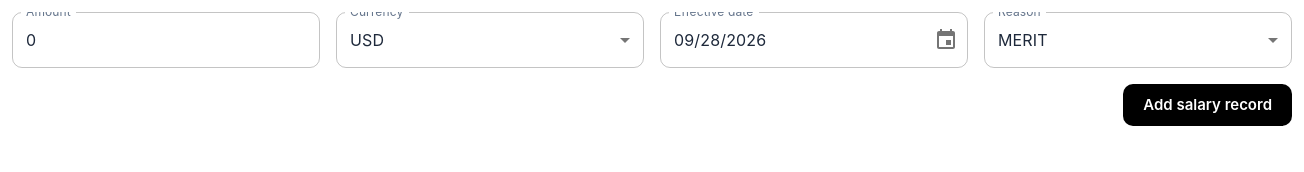
it: SalaryForm › shows a required-field error when effective date is cleared
The image size is (1304, 172).
Click the element named "Effective date". click: (814, 40)
box: [660,12,968,68]
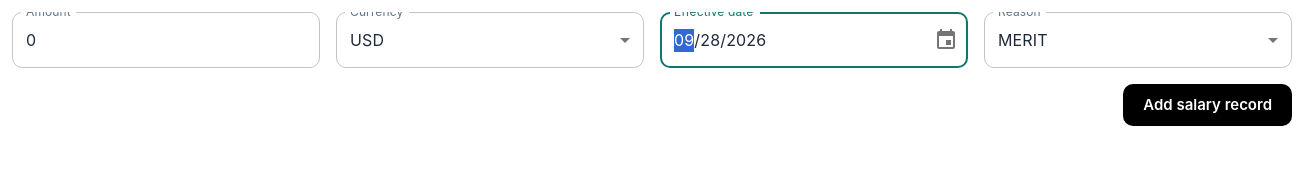
Type keys "{Control>}a{/Control}{Backspace}"
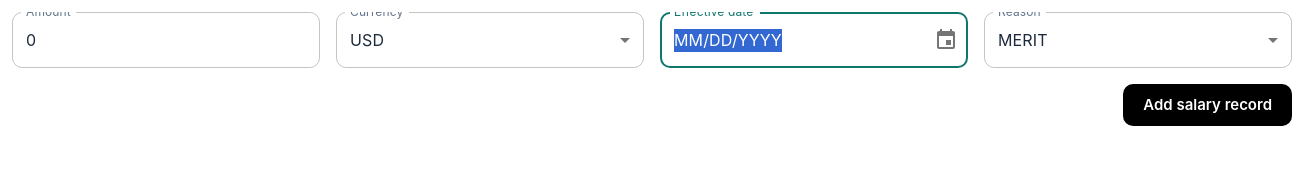
Click the button "Add salary record". click: (1208, 105)
box: [1123,84,1292,126]
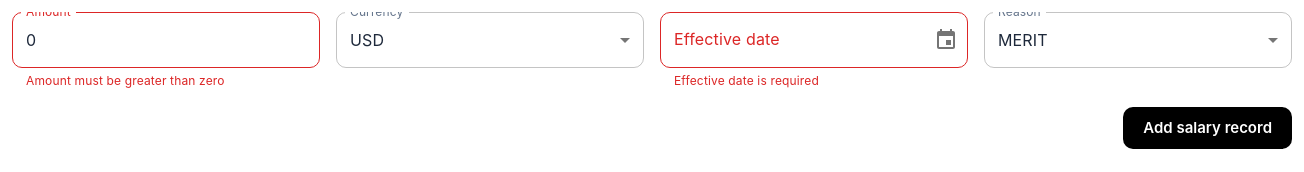
Expected: the text "Effective date is required" is shown, [674,73,819,88]
